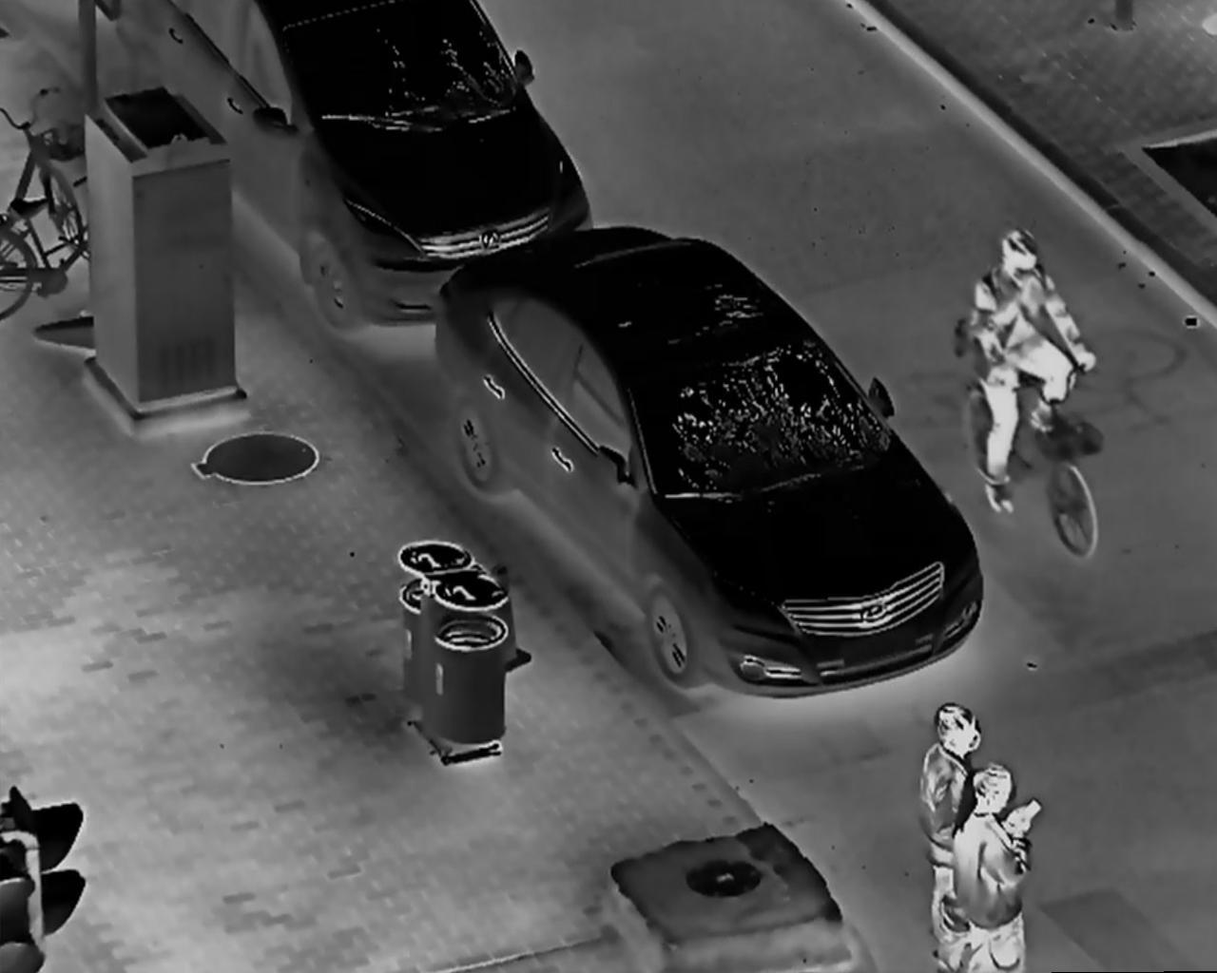person: (963, 226, 1099, 516), (951, 760, 1045, 973), (918, 703, 985, 973)
